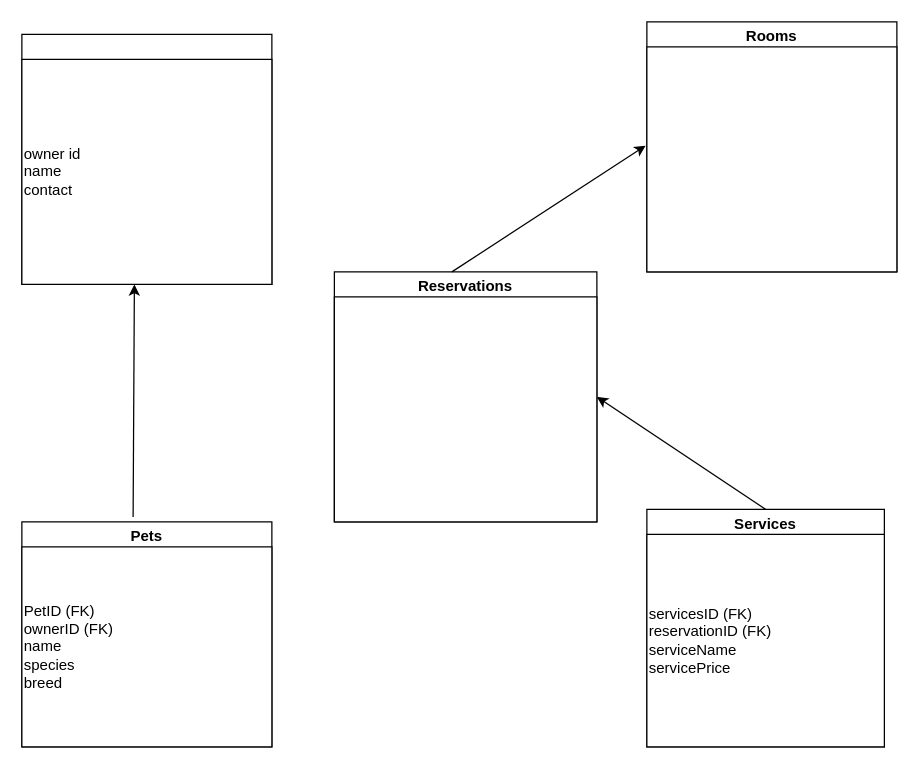
The diagram is 919 pixels wide and 769 high, and some of its shapes have lost their labels. Each missing label, with the box of its shape:
PetOwners: (21, 33, 272, 284)
reservationID (FK) petID roomID startDate endDate: (333, 296, 597, 522)
roomID roomNumber roomType pricePerNight: (646, 46, 897, 272)
